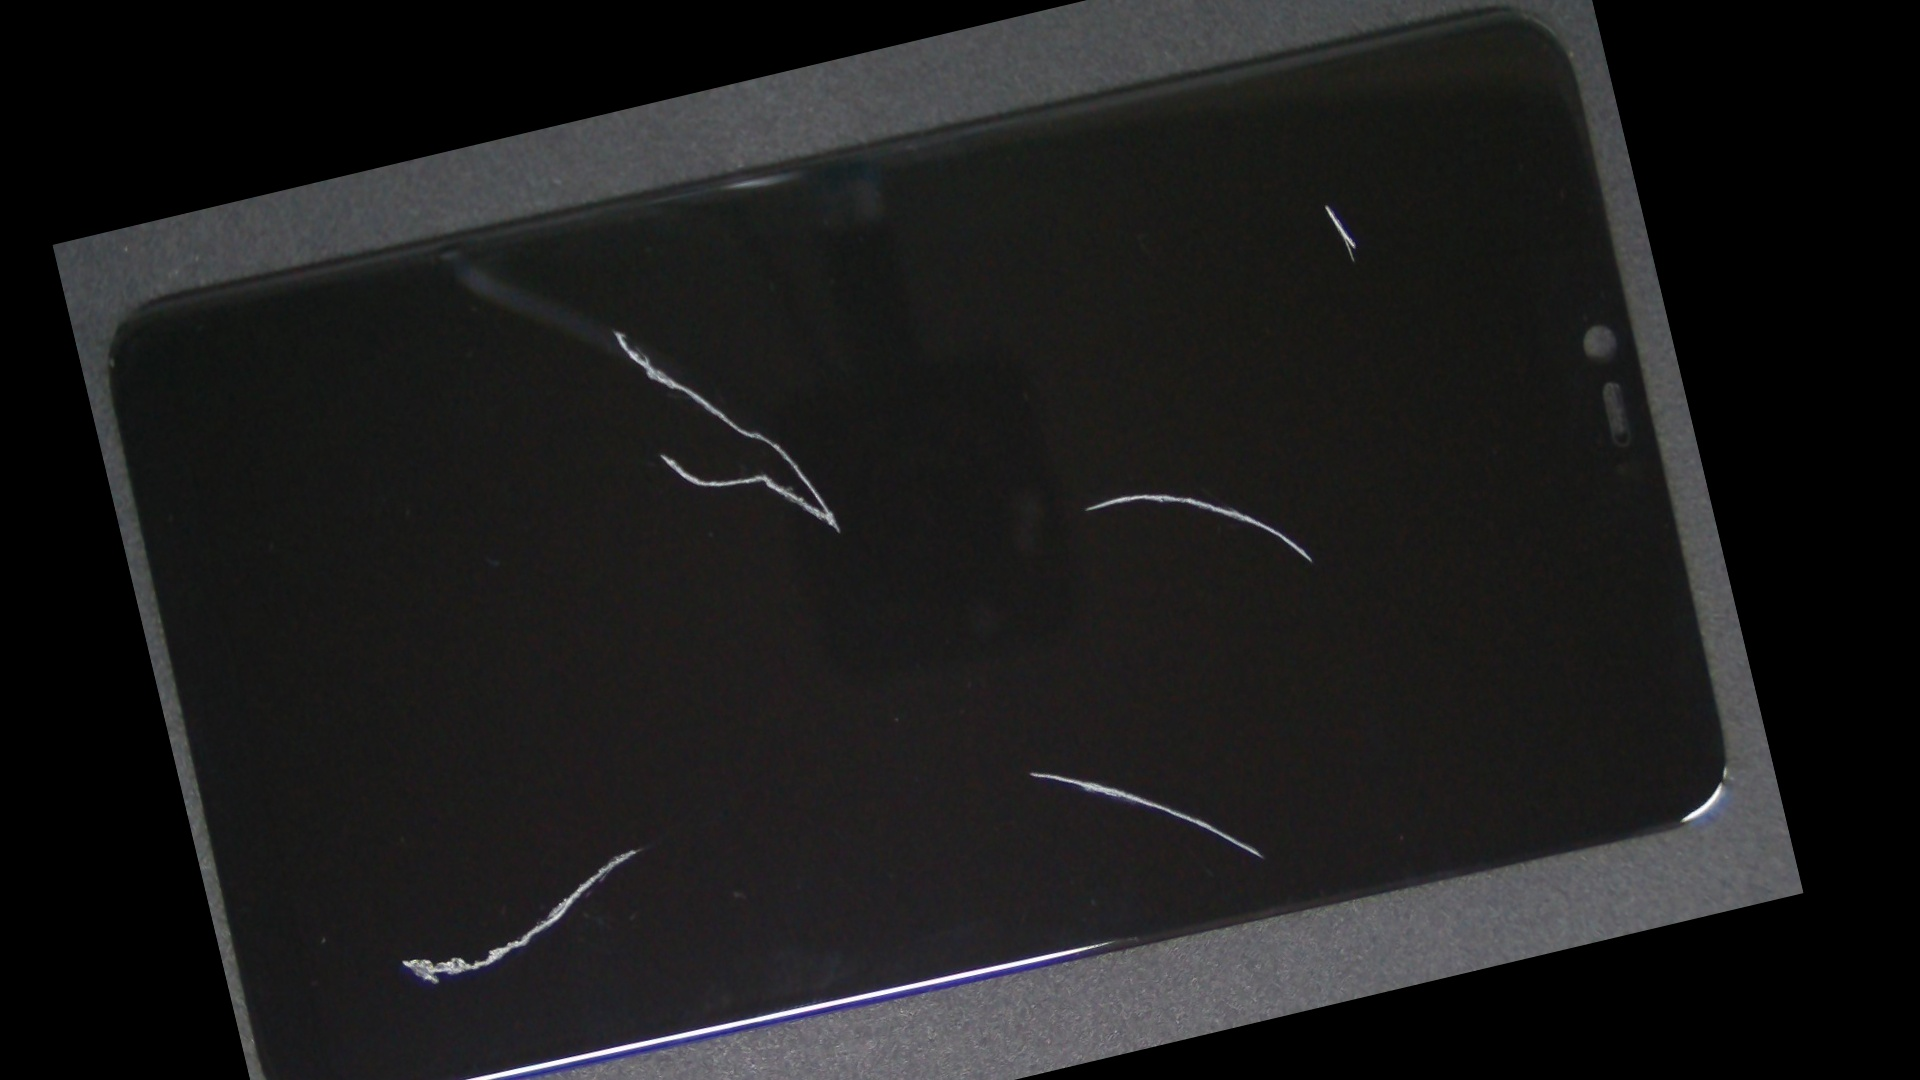oil: (582, 148, 1639, 849), (543, 315, 1505, 1080), (688, 9, 1654, 473), (342, 448, 910, 1080), (331, 164, 890, 492)
